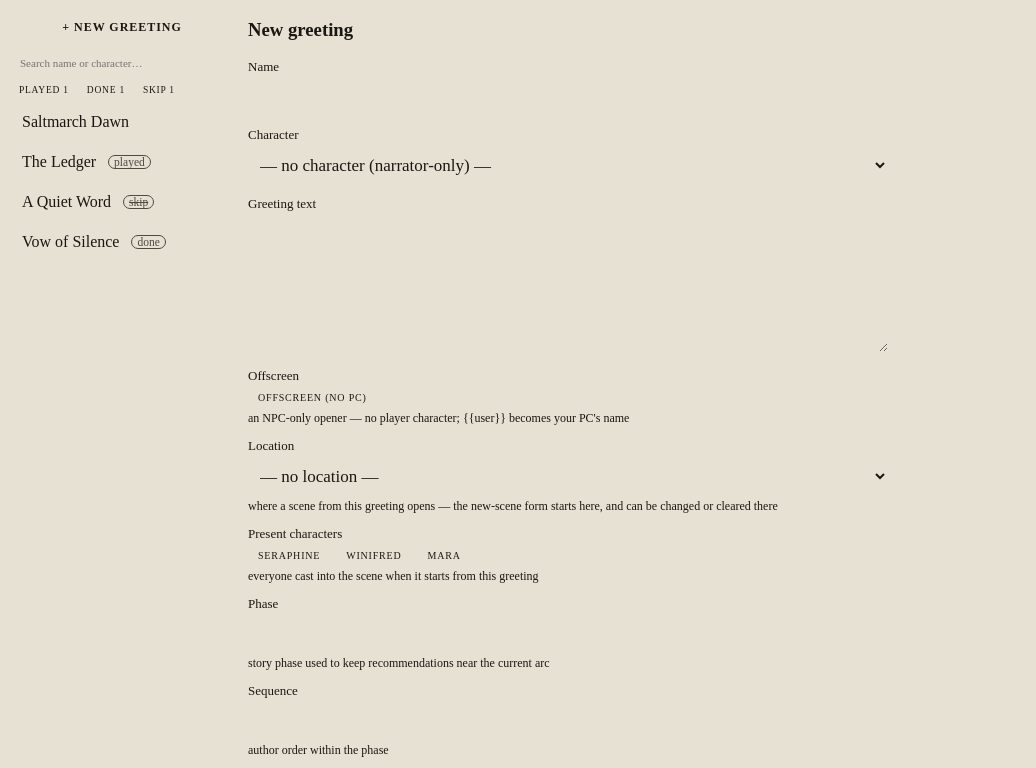
search matches the greeting name, its source character, and present characters
This screenshot has width=1036, height=768.
Expected: the link "Saltmarch Dawn" is shown, top-left (22, 113), bottom-right (129, 130)
Type "mara" into the search field named "Search greetings" at (122, 63), box top-left (12, 51), bottom-right (232, 75)
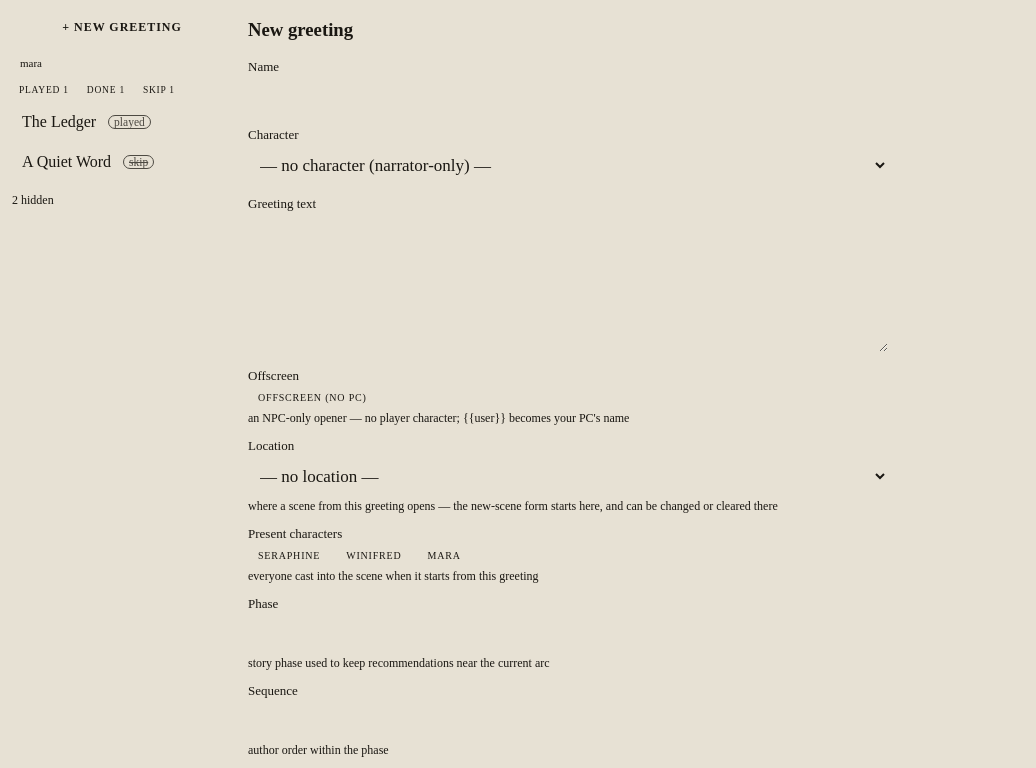
Expected: the text "Saltmarch Dawn" is not shown
Expected: the link "A Quiet Word skip" is shown, top-left (22, 153), bottom-right (154, 170)
// substring, case-insensitive, on the name itself
Replace the text in the search field named "Search greetings" with "SALT" at (122, 63), box top-left (12, 51), bottom-right (232, 75)
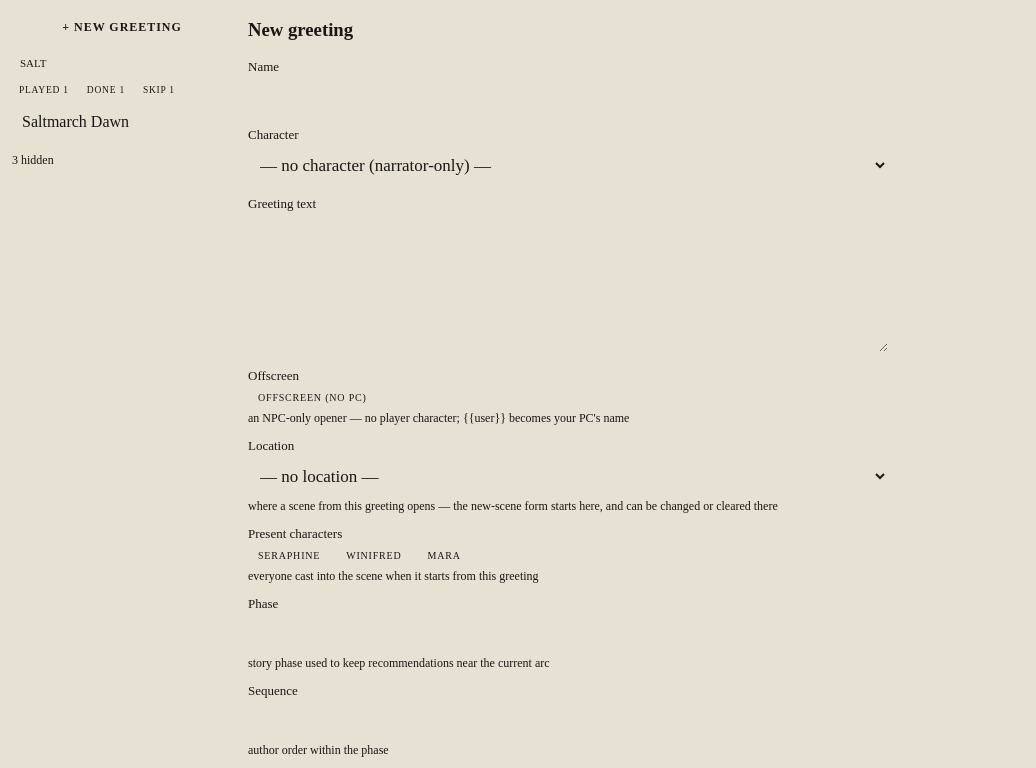
Expected: the text "The Ledger" is not shown
Expected: the link "Saltmarch Dawn" is shown, top-left (22, 113), bottom-right (129, 130)
Replace the text in the search field named "Search greetings" with "nothing here" at (122, 63), box top-left (12, 51), bottom-right (232, 75)
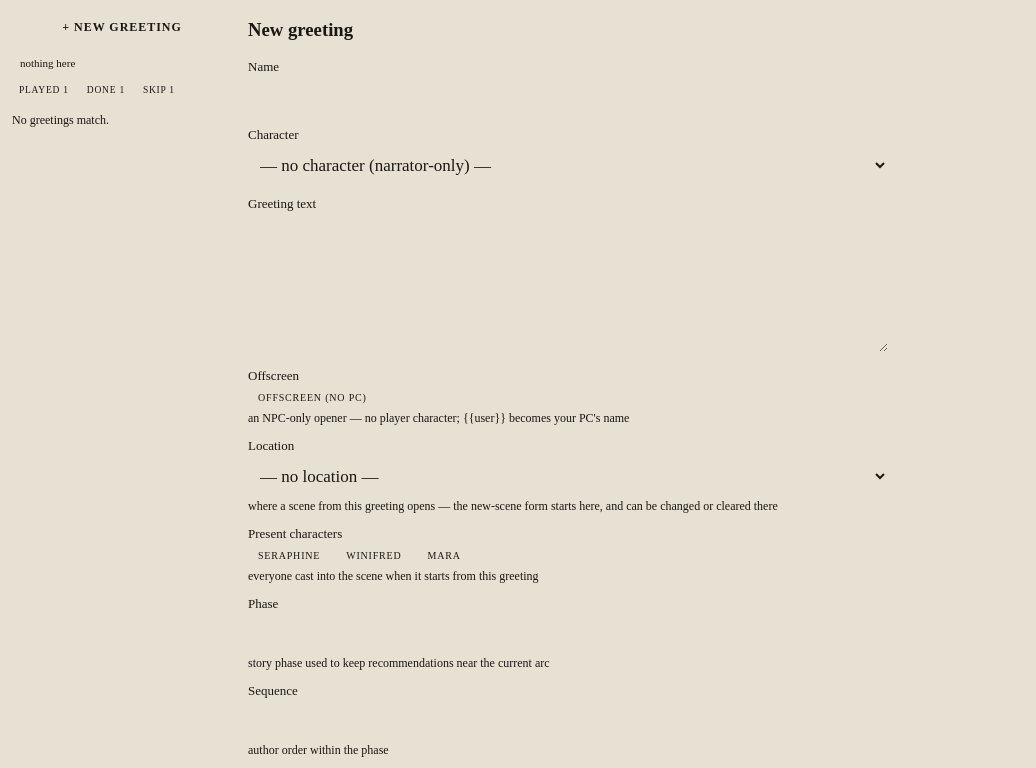
Expected: the text "No greetings match." is shown, top-left (12, 113), bottom-right (109, 127)
